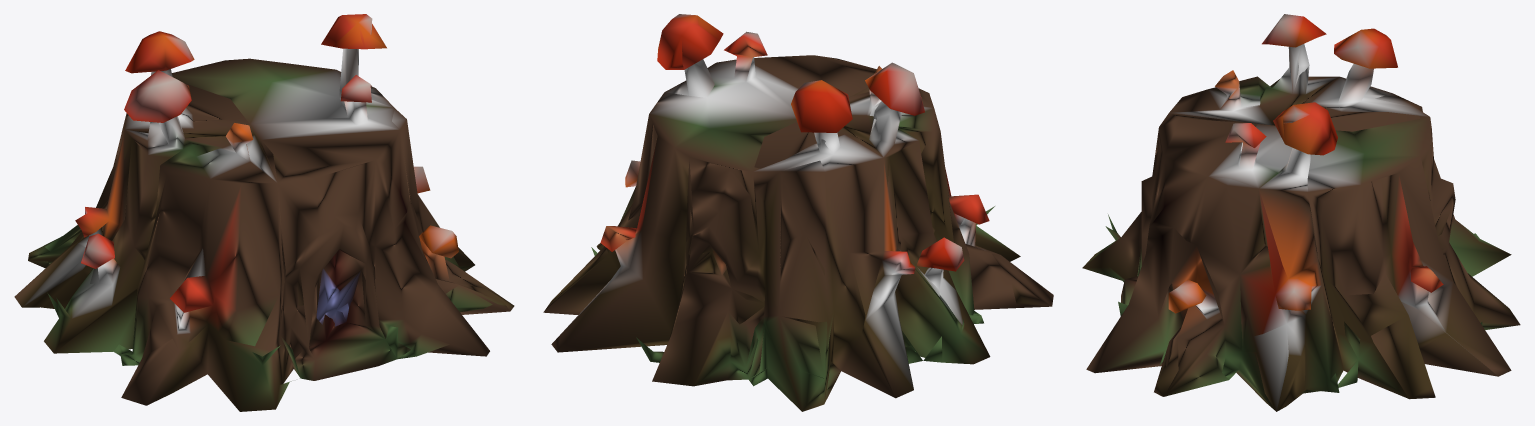
The model's file is gen3d-enchanted-stump-lod1.glb.
3 renders of one model, left to right at view 1: azimuth 30°, elevation 25°; view 2: azimuth 150°, elevation 25°; view 3: azimuth 270°, elevation 25°, orthographic. The views are drawn at different scales.
Parts seen in each view (by area): view 1: part_0; view 2: part_0; view 3: part_0.
Boxes of the visible parts, x1,y1,x2,y2 form: part_0: (14, 14, 514, 411); part_0: (543, 14, 1053, 411); part_0: (1082, 14, 1520, 411).
Size of the model in its own units: 1.59 by 0.9879 by 1.53.
